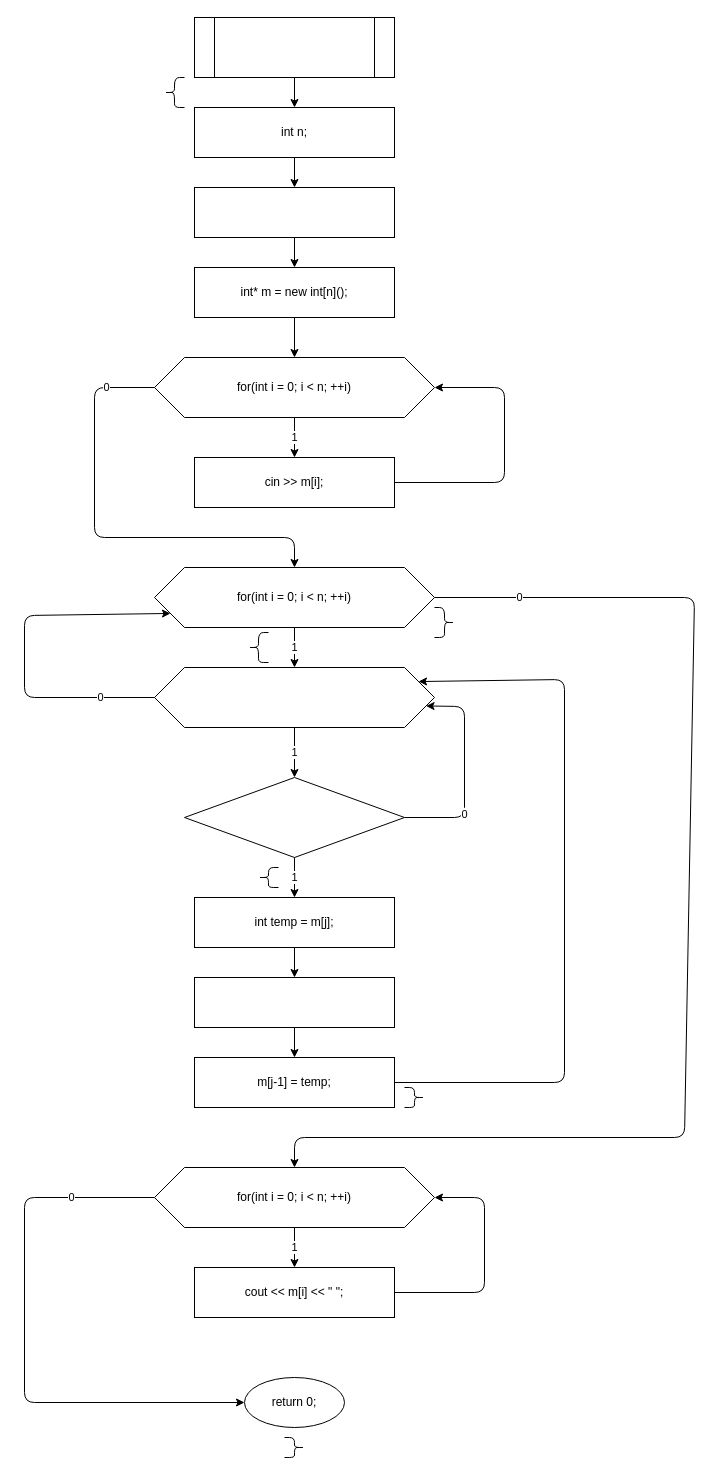
The diagram is 720 pixels wide and 1475 high, and some of its shapes have lost their labels. Here are the shapes that lost their labels. From the top down, the centre of each, then its label:
the point at 294,47: int main()
the point at 294,212: cin >> n;
the point at 294,697: for(int j = n-1; j > i; --j)
the point at 294,817: m[j-1] > m[j]
the point at 294,1002: m[j] = m[j-1];
